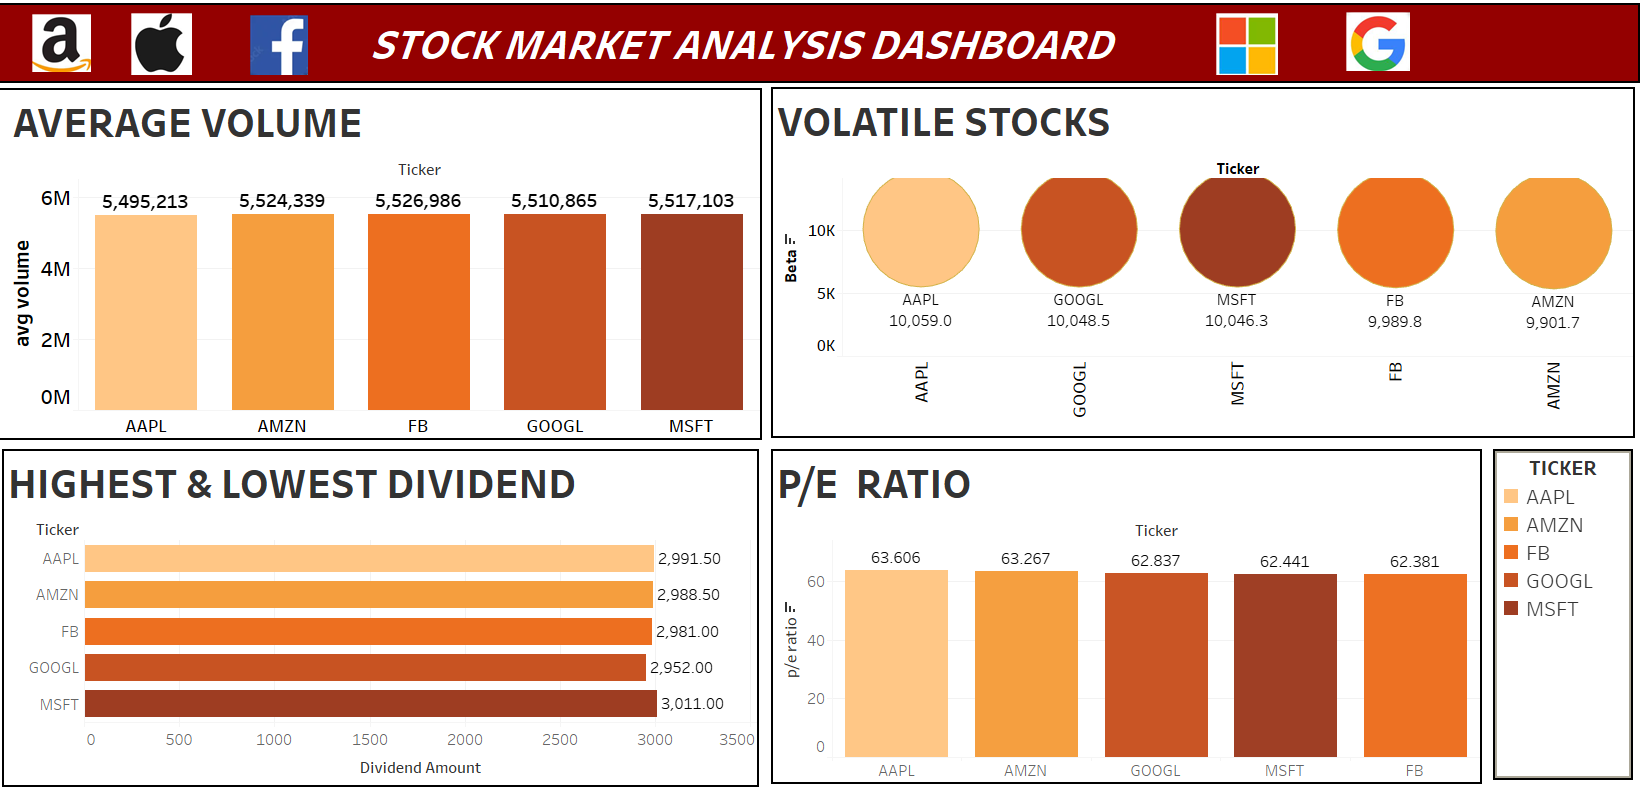

Layout of this report page (visuals, bound fields, positions):
{"tool":"tableau","page":{"name":"Dashboard 1","canvas":[1000,1000],"units":"permille","ordinal":0},"visuals":[{"type":"image","param":"Image/google ss.png","box":[809.2,22.5,46.1,73.7]},{"type":"image","param":"Image/apple ss.png","box":[70.2,23.7,56.6,77.4]},{"type":"image","param":"Image/msft.png","box":[731.1,23.7,45.5,77.4]},{"type":"image","param":"Image/amzn ss.png","box":[10.5,25,55.4,72.4]},{"type":"image","param":"Image/fb.png","box":[144.6,26.2,48.6,74.9]},{"type":"worksheet","title":"volatle stoc","mark":"Pie","rows":["Beta"],"cols":["Ticker"],"box":[465.9,116.1,521.4,438.2]},{"type":"worksheet","title":"highest and lowest dividend","mark":"Automatic","rows":["Ticker"],"cols":["Dividend Amount"],"box":[1.8,568,456.9,422]},{"type":"worksheet","title":"pe ratio","mark":"Bar","rows":["Calculation_221520865083453446"],"cols":["Ticker"],"box":[465.9,568,429.1,418.2]},{"type":"legend","title":"avg volume","param":"[federated.1jwewxj175lvg11h34jto1hcf2xo].[none:Ticker:nk]","box":[901.6,568,84.5,413.2]}]}

Visuals, with their boxes on the dashboard's canvas, which has no fixed pixel size, in thousandths of its width and height (x1, y1, x2, y2). These are canvas units, not pixel positions in the 1652x795 screenshot, which may show the page scaled, cropped or inside an application window:
image: detection(809, 22, 855, 96)
image: detection(70, 24, 127, 101)
image: detection(731, 24, 777, 101)
image: detection(10, 25, 66, 97)
image: detection(145, 26, 193, 101)
"volatle stoc" worksheet (Pie marks): detection(466, 116, 987, 554)
"highest and lowest dividend" worksheet: detection(2, 568, 459, 990)
"pe ratio" worksheet (Bar marks): detection(466, 568, 895, 986)
"avg volume" legend: detection(902, 568, 986, 981)
